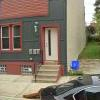stairs: (34, 58, 62, 82)
